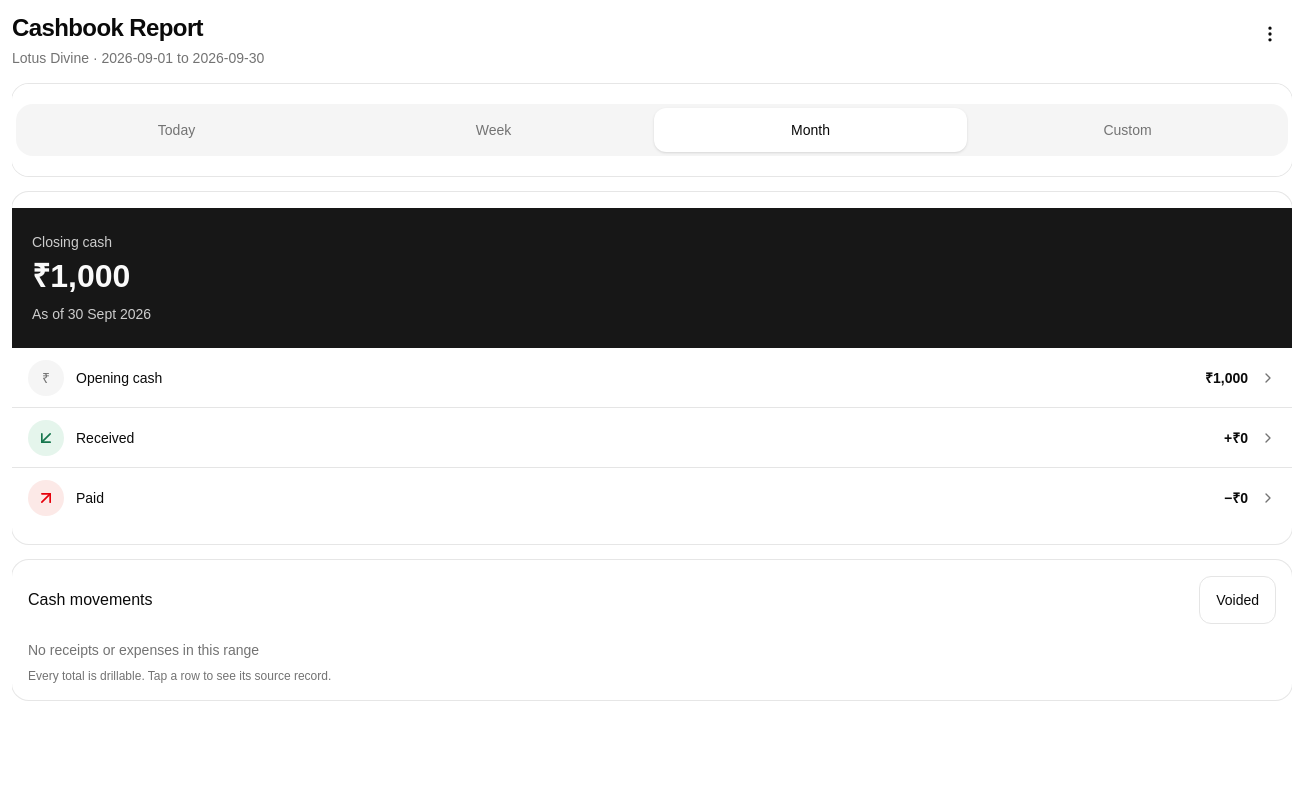
Scenario: ReportsPage — T2 Cashbook Report Core › lets admins reveal voided receipt history without adding it to report totals
This screenshot has width=1304, height=812.
Expected: the text "Closing cash" is shown, [32,234,112,250]
Click the button "Voided" at (1238, 600), box [1199,576,1276,624]
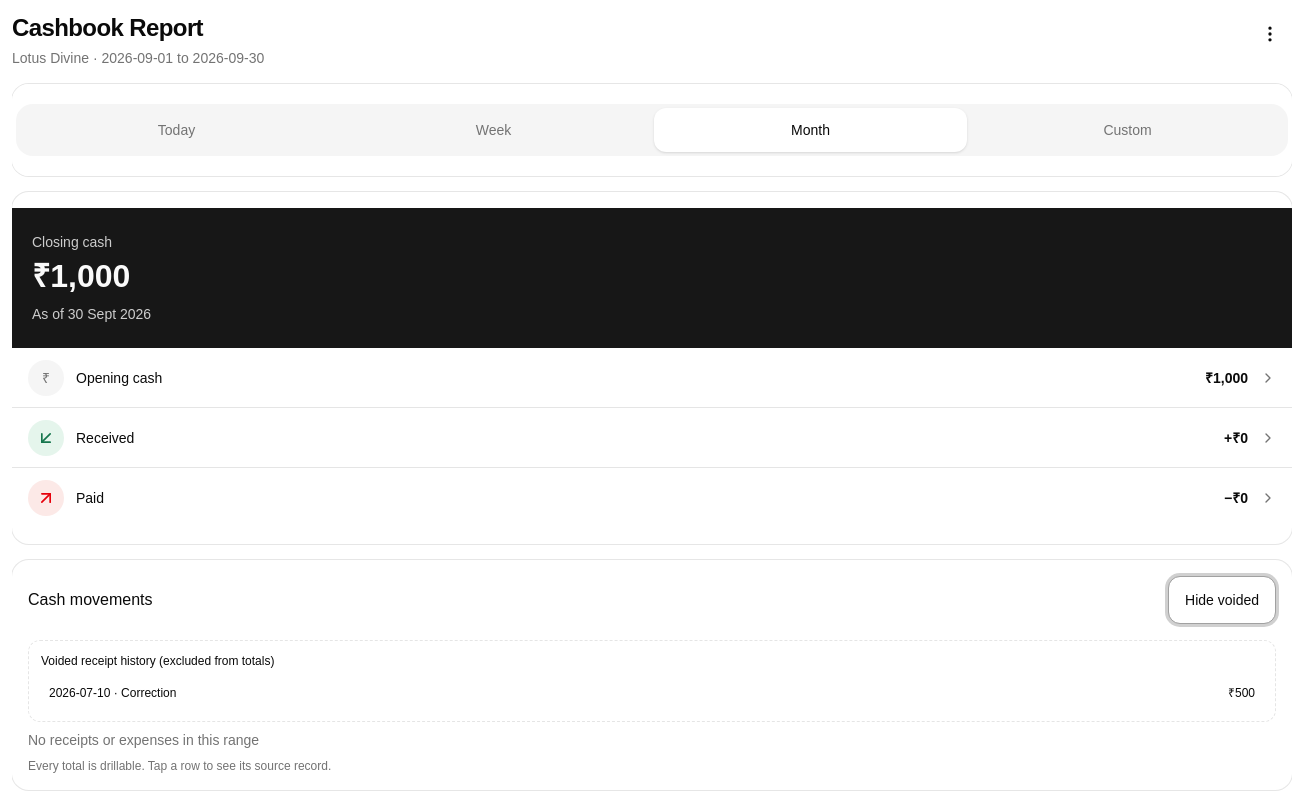
Expected: the text with test id "summary-receipts" shows "0", [1232,430,1248,446]
Expected: the text "2026-07-10 · Correction" is shown, [49,685,176,701]
